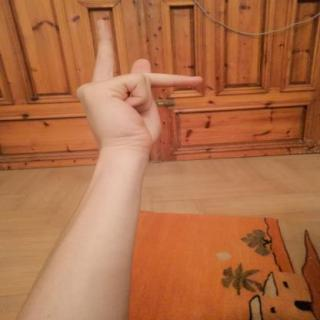DHAA: (66, 14, 211, 158)
